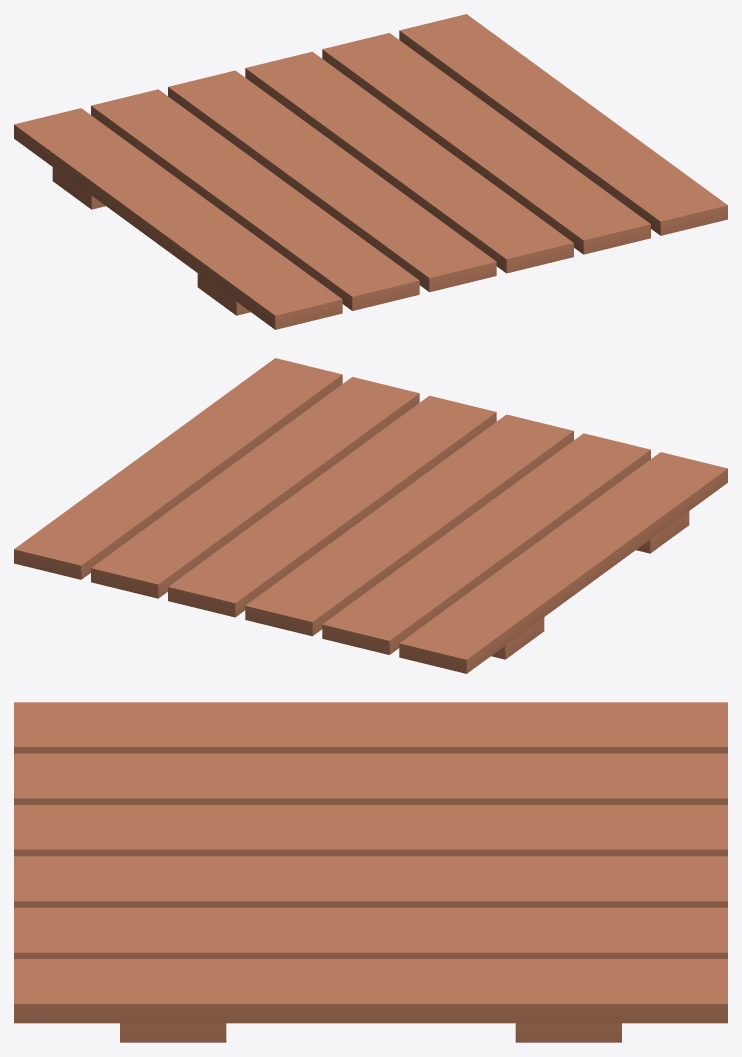
Rendered from ot-planks.glb.
3 renders of one model, top to bottom at view 1: azimuth 30°, elevation 25°; view 2: azimuth 150°, elevation 25°; view 3: azimuth 270°, elevation 25°, orthographic. The views are drawn at different scales.
Parts seen in each view (by area): view 1: planks; view 2: planks; view 3: planks.
Part boxes in pixels (<box>): planks: <box>14,14,727,329</box>; planks: <box>14,358,727,673</box>; planks: <box>14,702,727,1042</box>.
Bounding box in the file's own units: 1 × 0.0599 × 1.
Materials: 1 (1 with a texture image).
